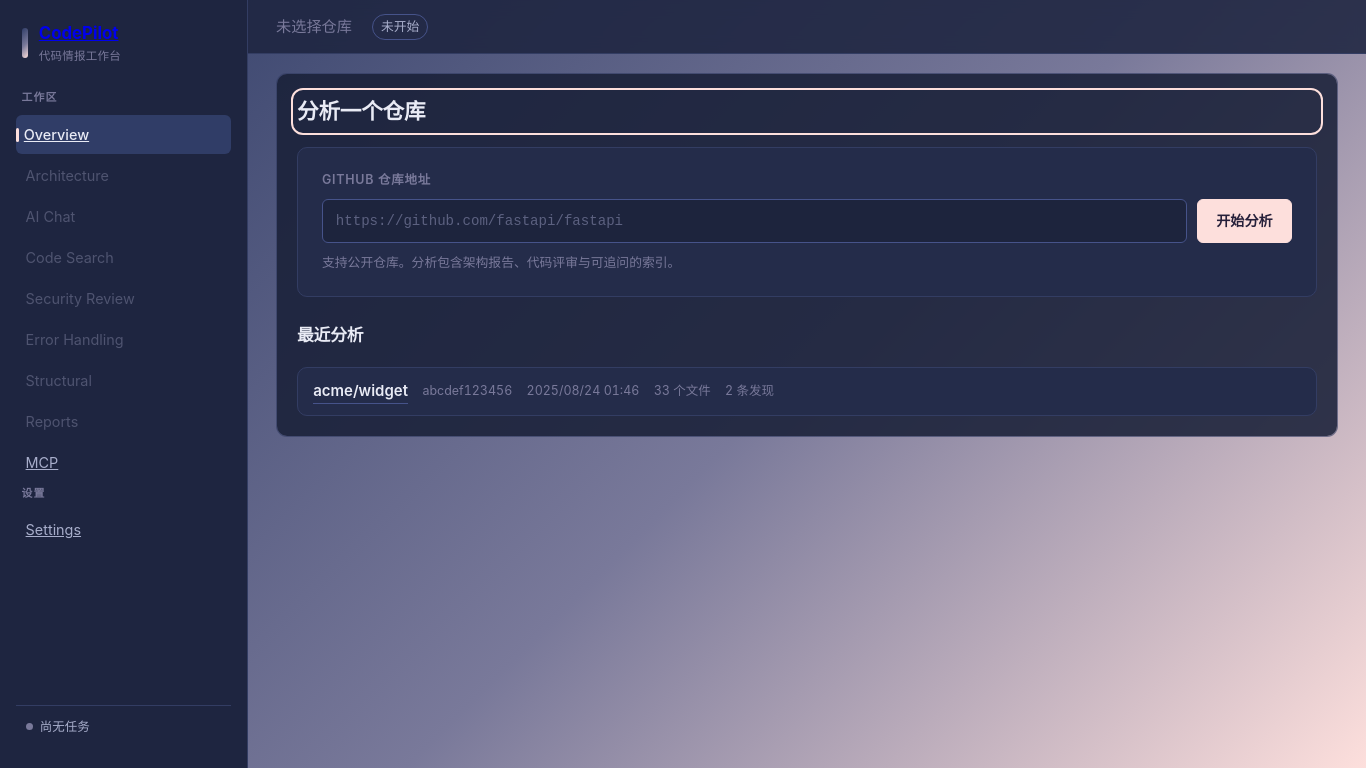
Test case: 提交入口 › 提交成功后进入该分析的 Overview 页
The width and height of the screenshot is (1366, 768).
Type "https://github.com/acme/widget" into the field labelled "GitHub 仓库地址".
click(755, 221); type("https://github.com/acme/widget")  # box [322, 199, 1187, 243]
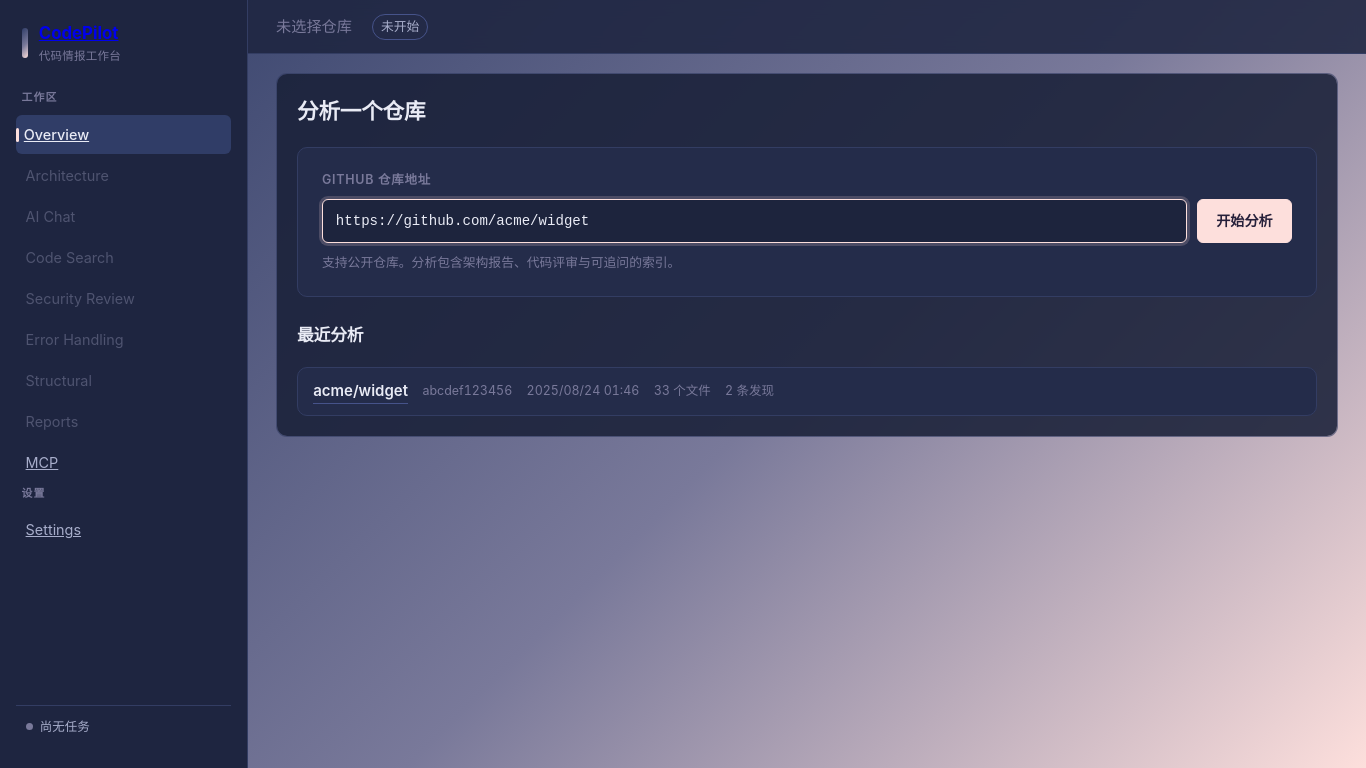
Click the button "开始分析".
click(1244, 221)  # box [1197, 199, 1292, 243]
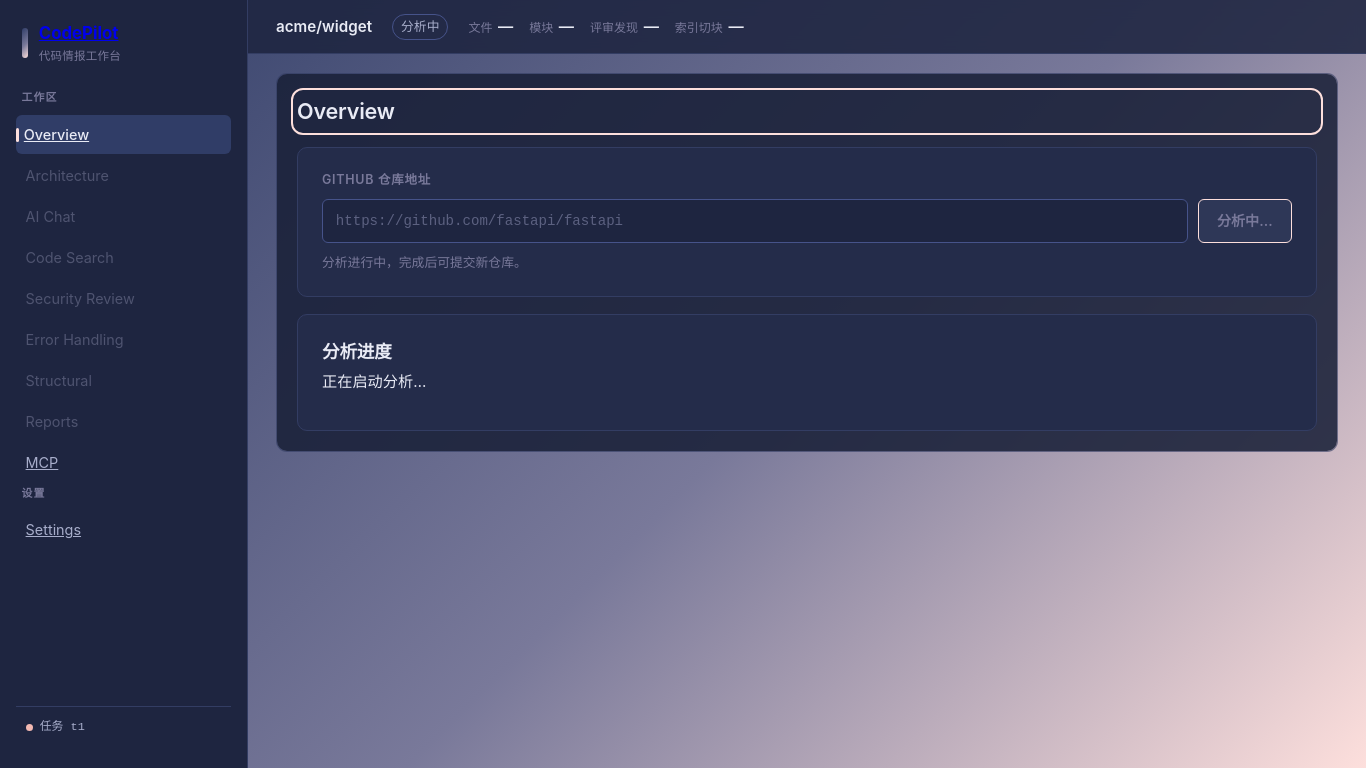
Expected: the heading "Overview" is shown, [297, 98, 395, 124]
